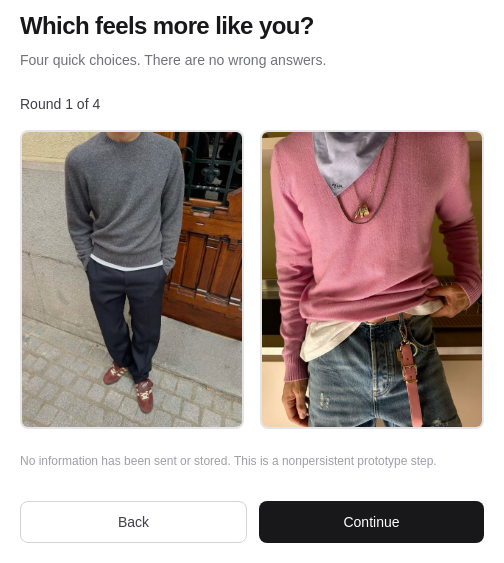
Test: WishboneFlow — completion › reads "Finish setup" on the fourth round's continue button
Click the 1st button.
click(132, 279)  # box 20,130 -> 244,429
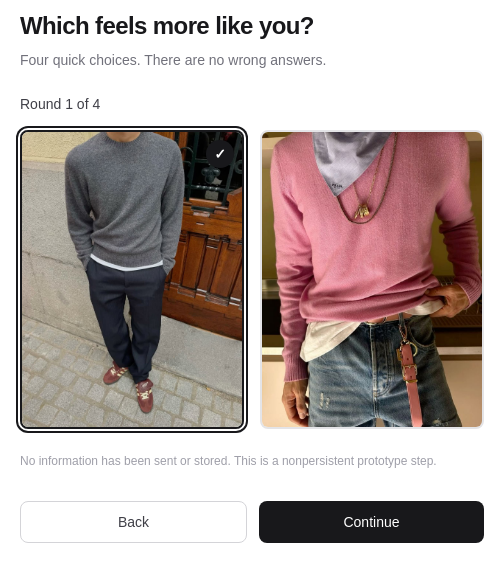
Click the button "Continue".
click(372, 522)  # box 259,501 -> 484,543
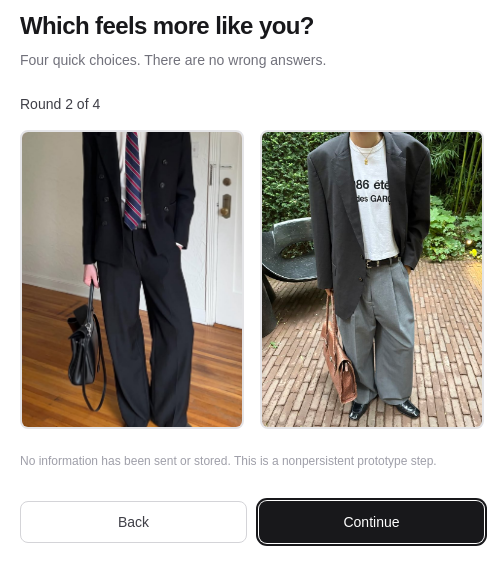
Click the 1st button.
click(132, 279)  # box 20,130 -> 244,429
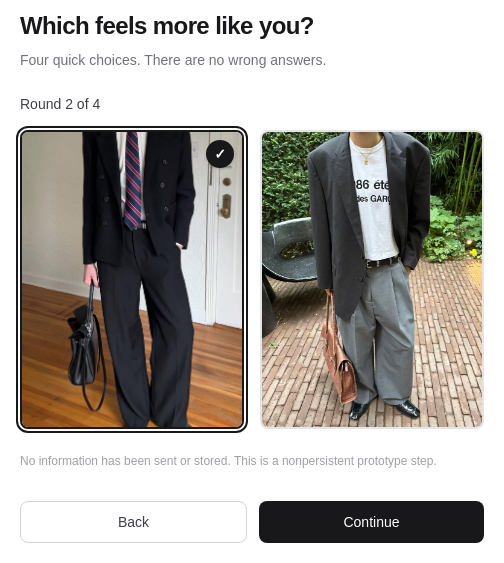
Click the button "Continue".
click(372, 522)  # box 259,501 -> 484,543
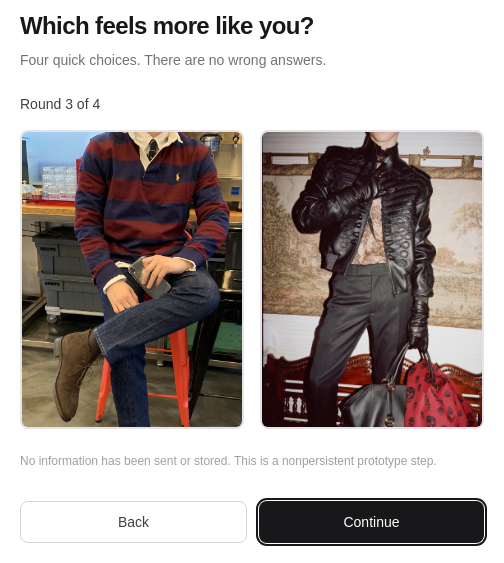
Click the 1st button.
click(132, 279)  # box 20,130 -> 244,429
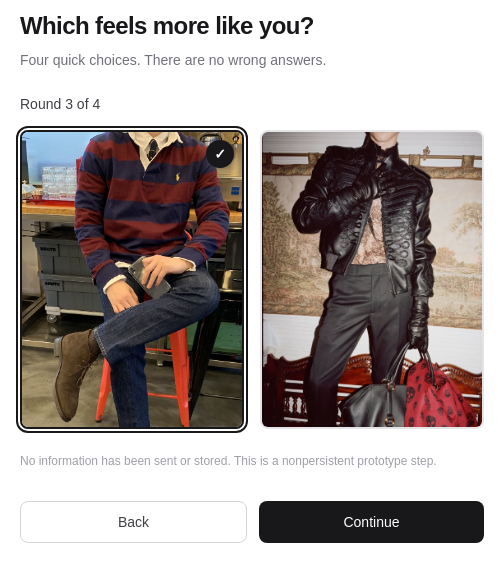
Click the button "Continue".
click(372, 522)  # box 259,501 -> 484,543
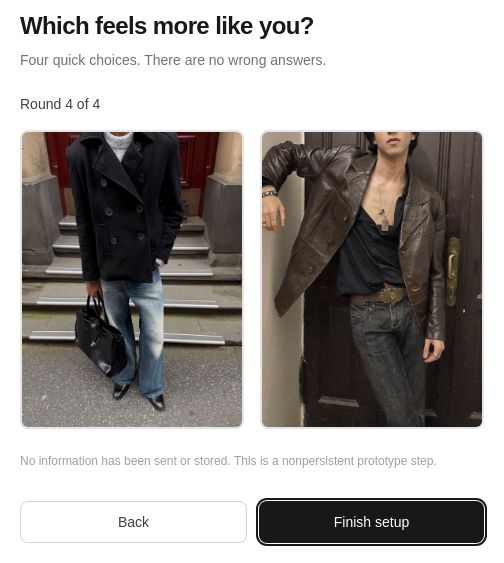
Expected: the text "Round 4 of 4" is shown, 20,96 -> 100,112
Expected: the button "Finish setup" is shown, 259,501 -> 484,543
